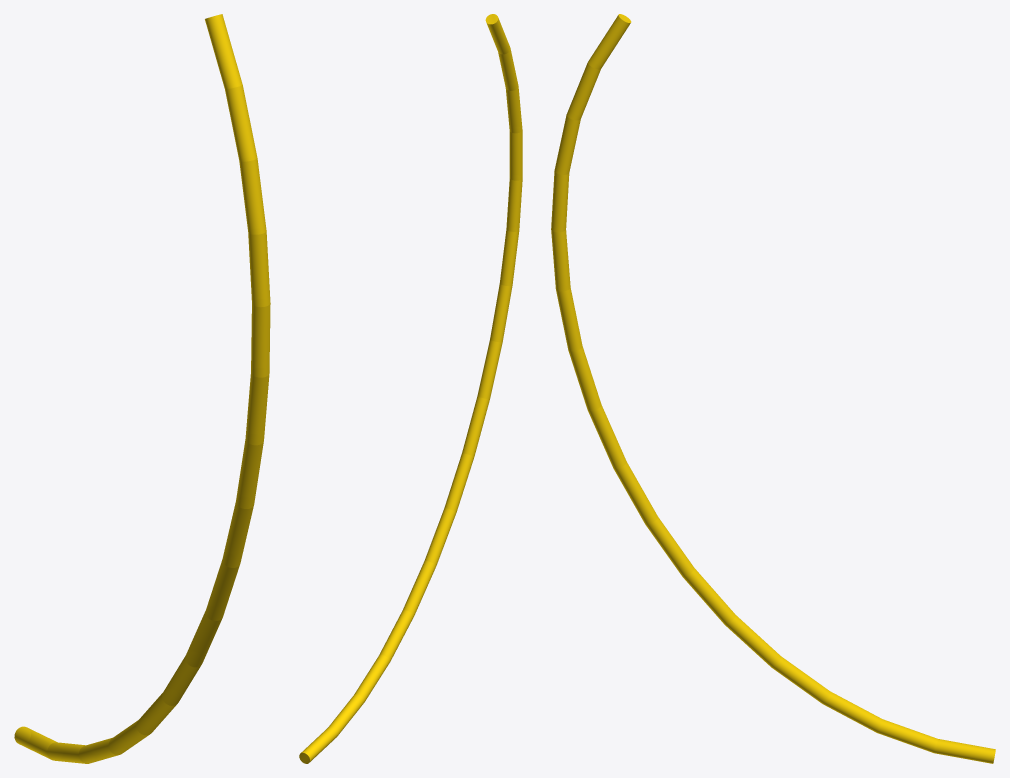
The model's file is Event_421278790_track_54.fbx.
3 renders of one model, left to right at view 1: azimuth 30°, elevation 25°; view 2: azimuth 150°, elevation 25°; view 3: azimuth 270°, elevation 25°, orthographic. The views are drawn at different scales.
Parts seen in each view (by area): view 1: Model; view 2: Model; view 3: Model.
Part boxes in pixels (x1,y1,x2,y2): Model: [14, 14, 270, 763]; Model: [299, 14, 522, 763]; Model: [551, 14, 995, 763].
Bounding box in the file's own units: 0.1349 × 2.16 × 1.19.
